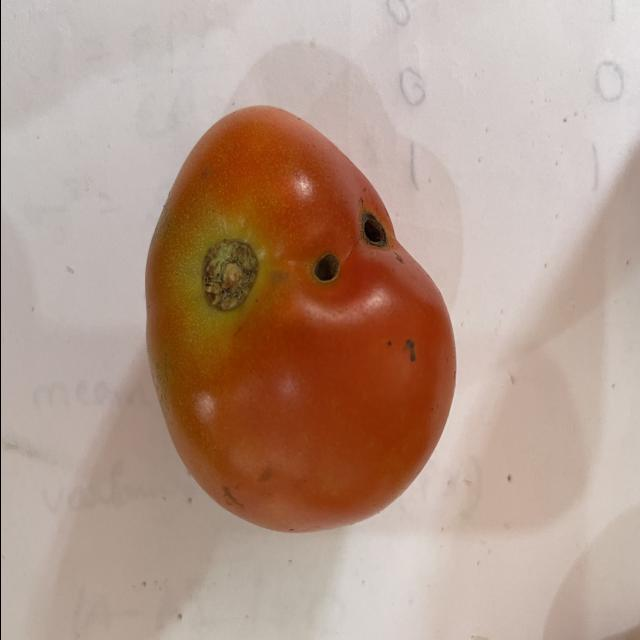fruitworm_bore: (305, 205, 395, 288)
